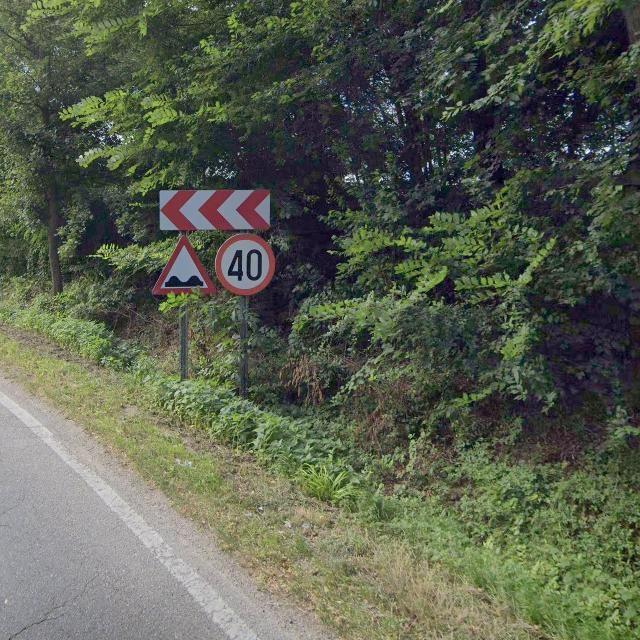forb_speed_over_40: (215, 233, 276, 296)
